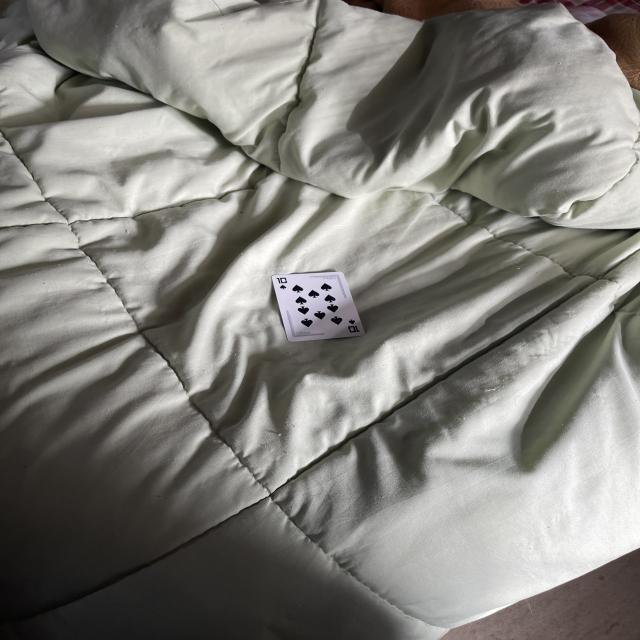10 of spades: (273, 272, 364, 341)
